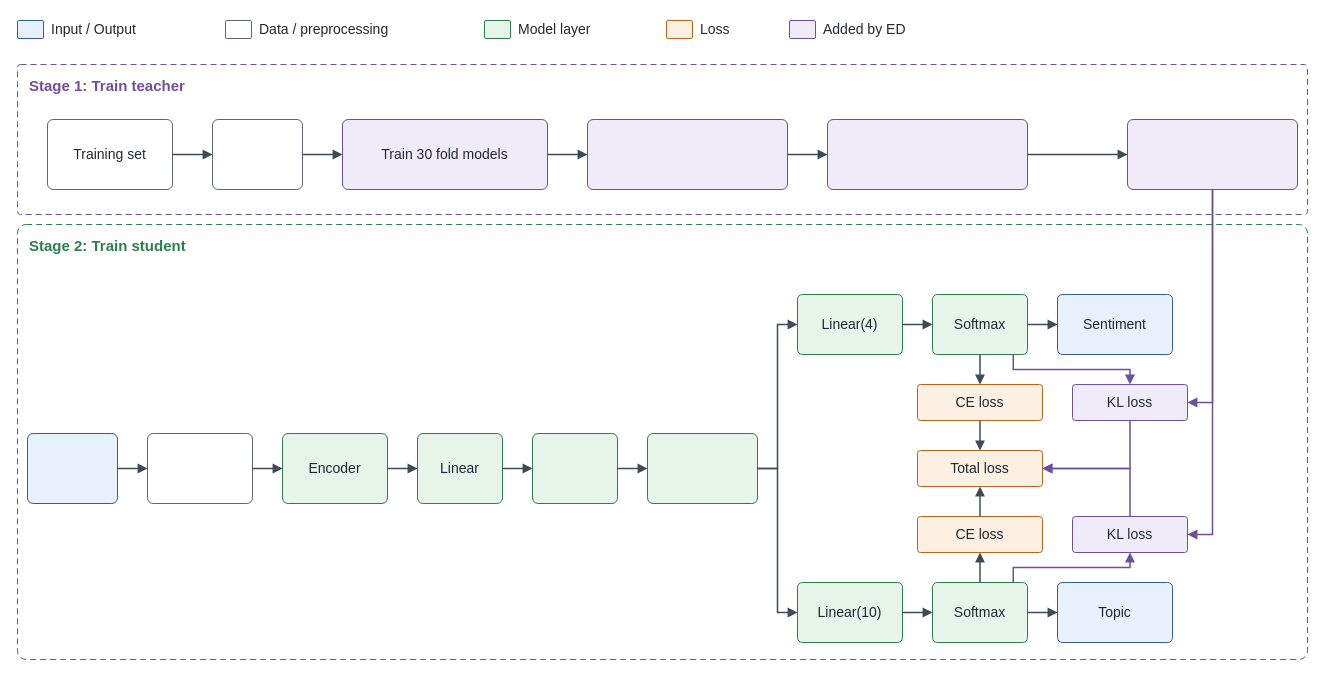
This 1325x677 diagram has some shape labels left out. The shapes that lost their labels are listed below. From the top down, each one's centre as x and y in pixels, then its label:
the point at 257,154: 5 folds
the point at 687,154: Predict held-out folds
the point at 927,154: Average probabilities
the point at 1212,154: Soft targets
the point at 72,468: Input
the point at 199,468: Tokenizer
the point at 575,468: SiLU
the point at 702,468: LayerNorm
